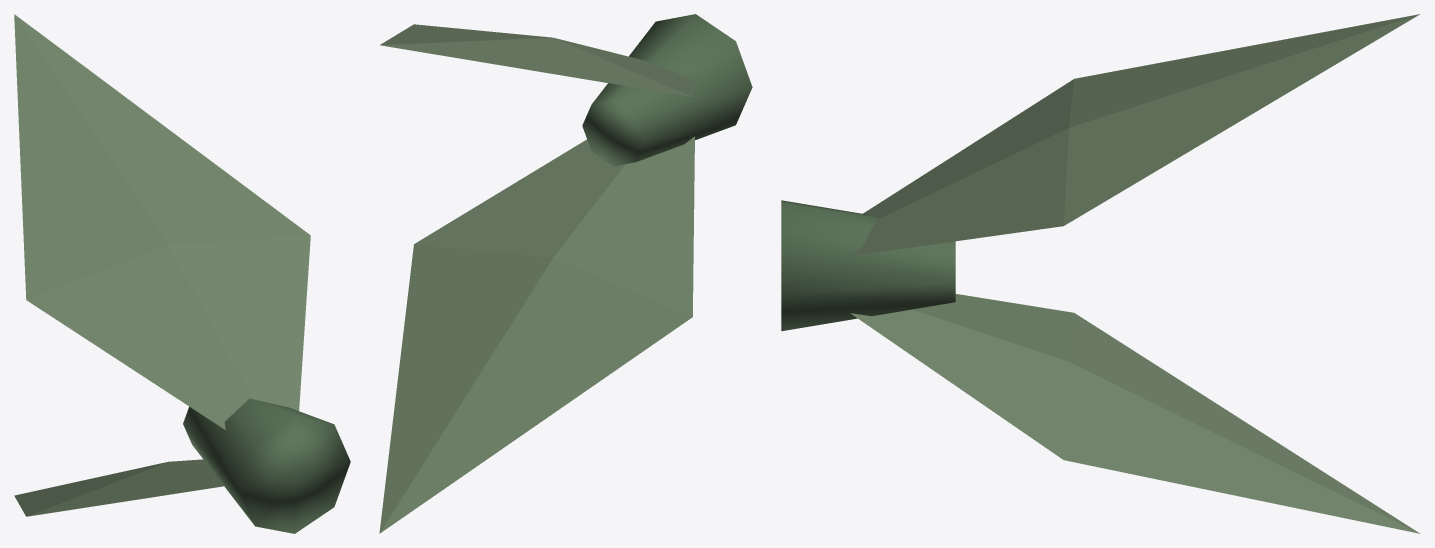
Rendered from fish_tail.glb.
3 views of the same model, side by side, from view 1: azimuth 30°, elevation 25°; view 2: azimuth 150°, elevation 25°; view 3: azimuth 270°, elevation 25° (orthographic). The views are drawn at different scales.
Visible parts, largest first — view 1: fish_tail; view 2: fish_tail; view 3: fish_tail.
Part boxes in pixels (x1,y1,x2,y2): fish_tail: (14, 14, 350, 533); fish_tail: (379, 14, 752, 533); fish_tail: (781, 14, 1420, 533).
Bounding box in the file's own units: 0.09 × 0.148 × 0.165.
